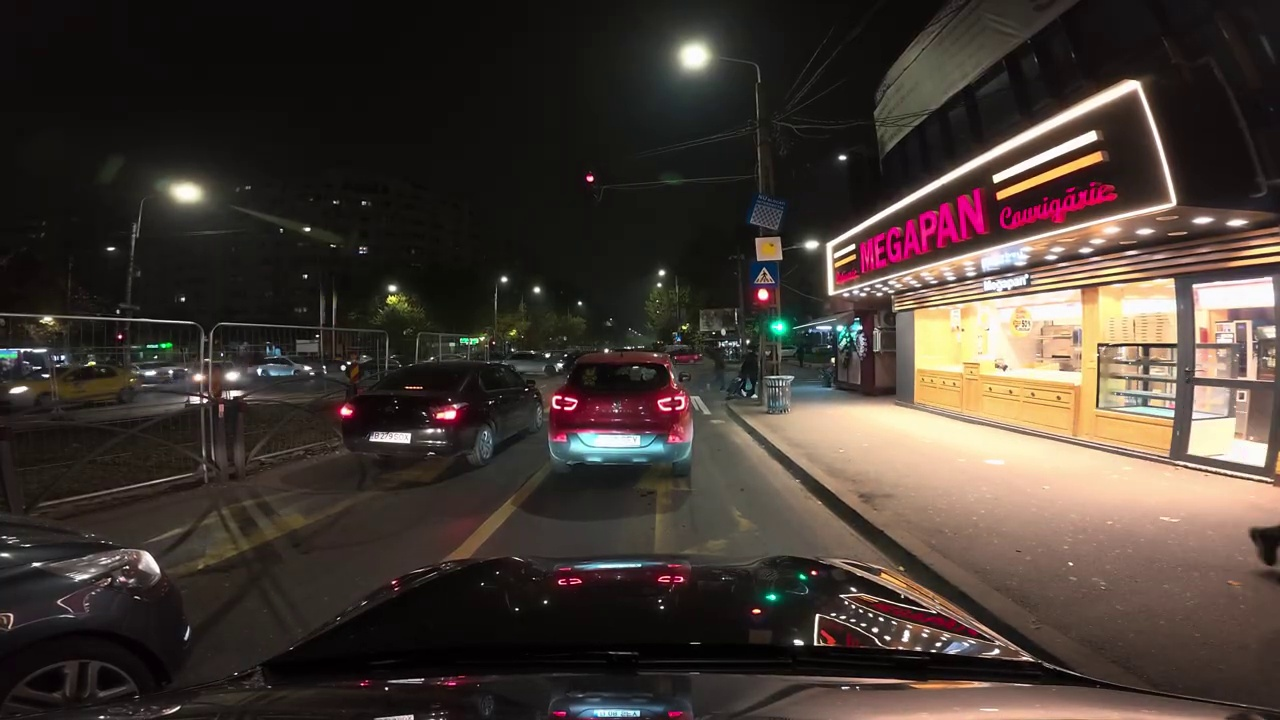acesa: (675, 40, 712, 73), (166, 179, 204, 207)
